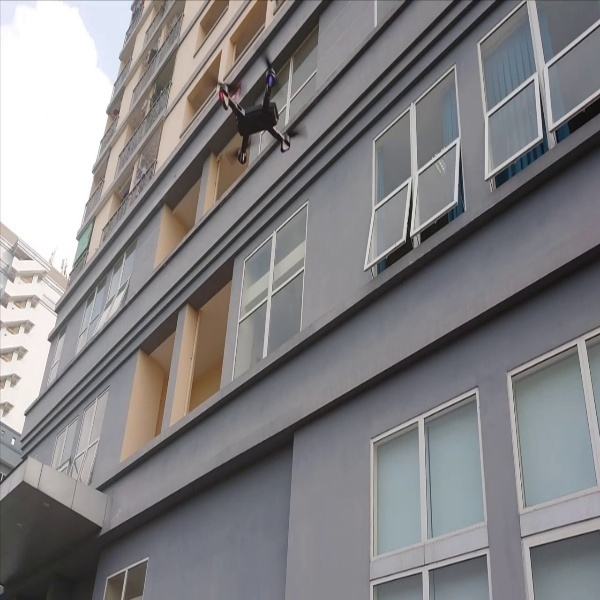drone: (209, 46, 308, 165)
